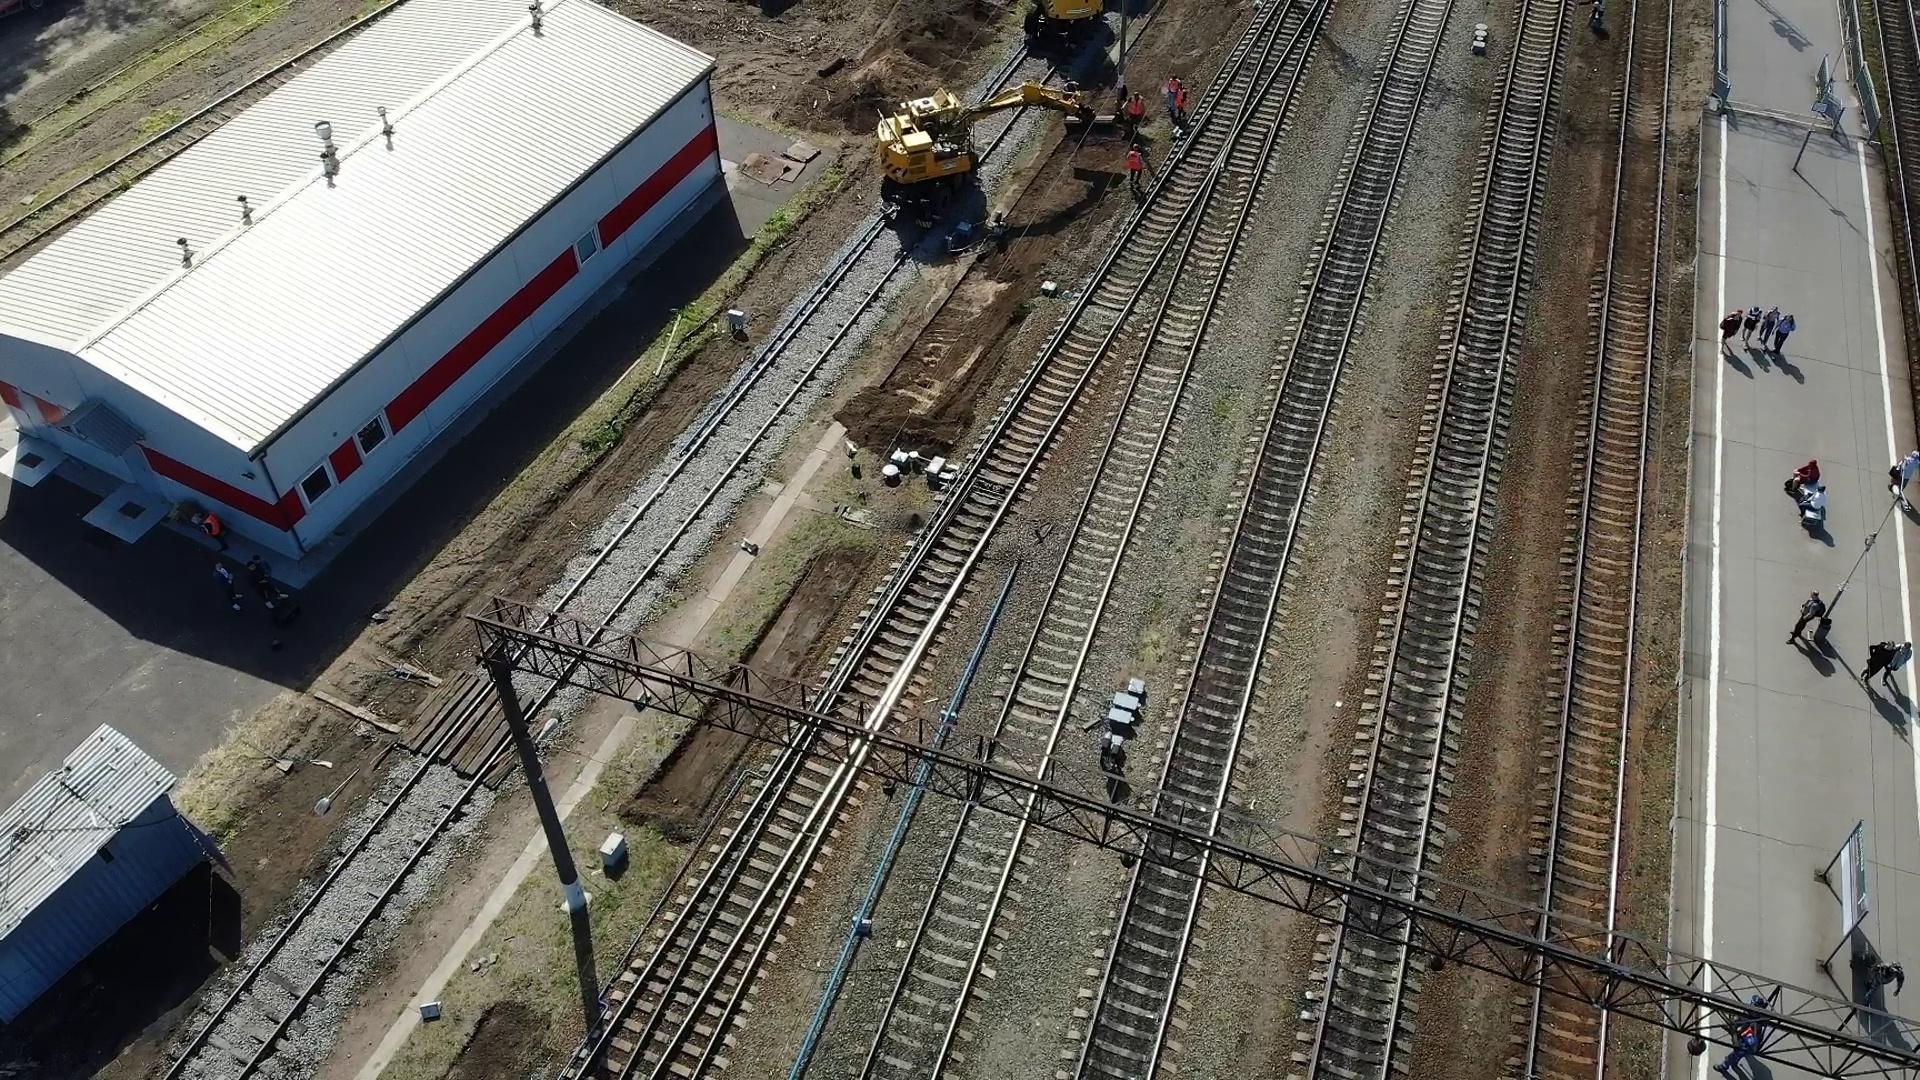kjtv: (874, 91, 1006, 237)
